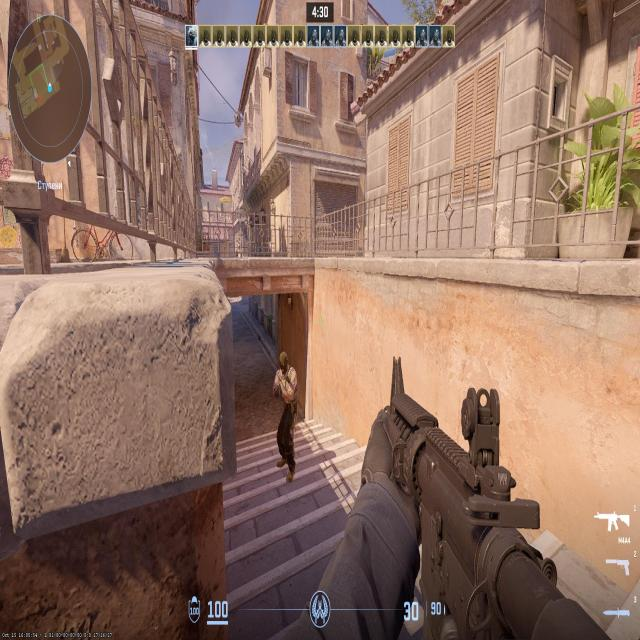T: (276, 356, 298, 480)
T_heat: (282, 360, 290, 378)
